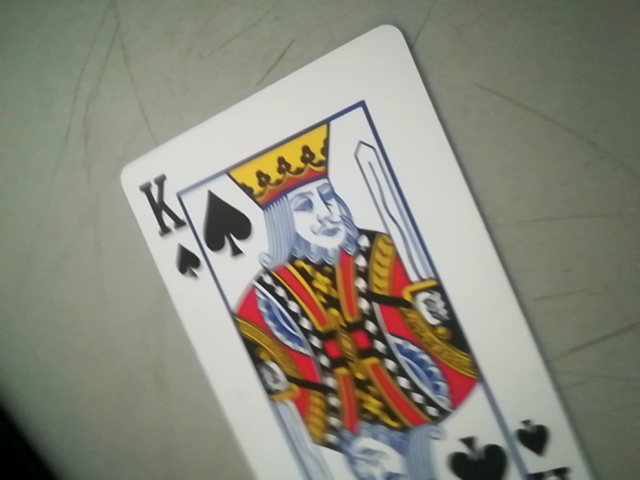ht k: (137, 172, 207, 287)
